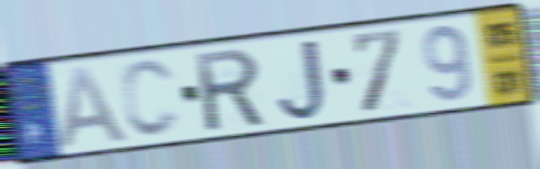7: (350, 26, 406, 117)
9: (420, 21, 476, 107)
A: (56, 64, 134, 152)
C: (118, 56, 184, 140)
J: (274, 36, 330, 125)
R: (191, 44, 269, 135)
